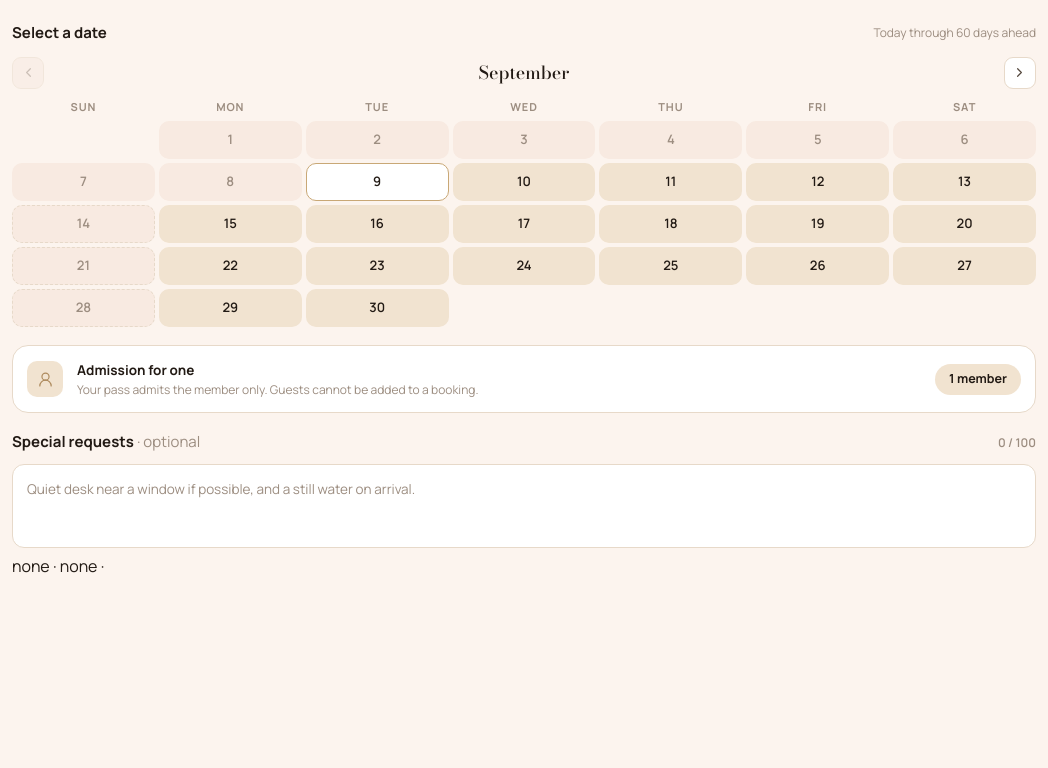
selección de hora tras elegir fecha › muestra los slots de llegada al elegir un día futuro disponible
Click the button "10" at [524, 182], box x1=453 y1=163 x2=596 y2=201
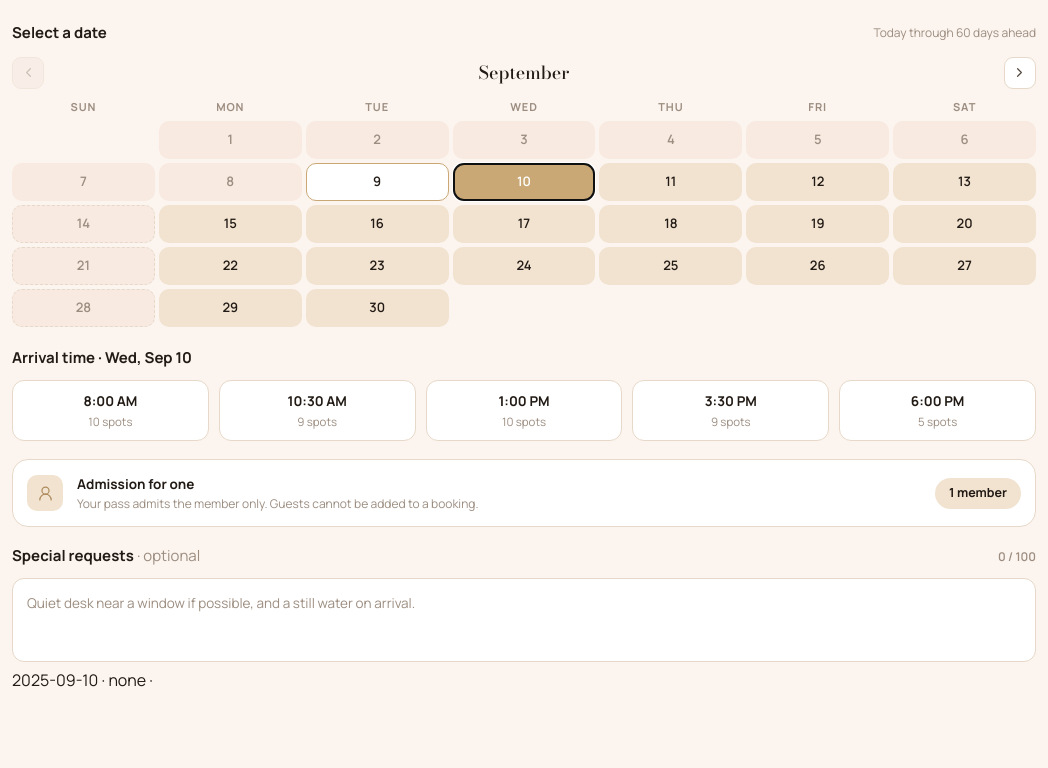
Now the text "Arrival time · Wed, Sep 10" is shown, box x1=12 y1=347 x2=192 y2=368
